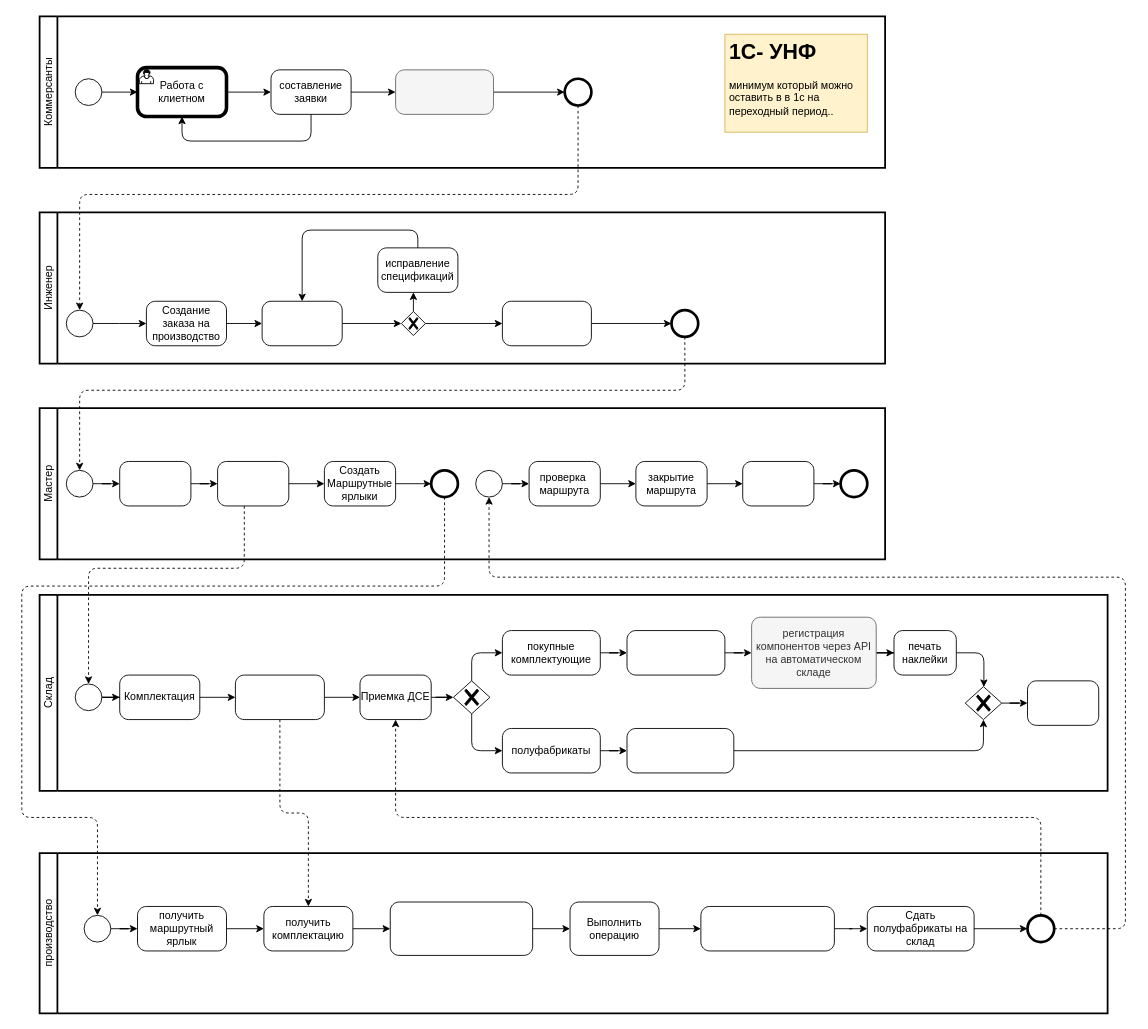
This 1148x1029 diagram has some shape labels left out. The shapes that lost their labels are listed below. From the top down, each one's centre as x and y in pixels, then its label:
At point (444, 91): "экспорт заявки в Hitek".
At point (301, 323): "Проверка спецификаций на изделия".
At point (546, 323): "Отметить заказ как готовый к производству".
At point (155, 483): "мониторинг состояния производства".
At point (253, 483): "запуск в производство".
At point (778, 483): "закрытие документа на производство".
At point (675, 652): "заполнение катрочки партии".
At point (279, 697): "Перемещение на участок".
At point (1063, 702): "размещение на складе".
At point (680, 750): "Сканирование серийных номеров".
At point (461, 928): "отметить начало вылолнения операции и количество на начало операции".
At point (767, 928): "отметить конец операции и количество изготовленных".
